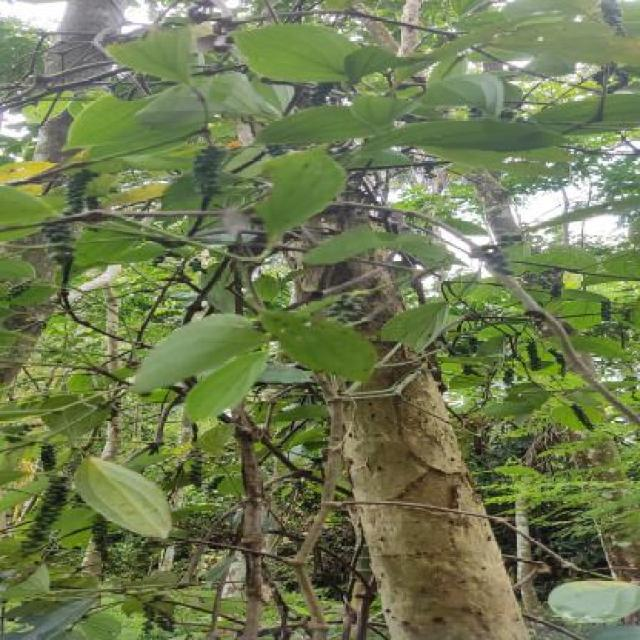UNRIPE: (39, 169, 103, 262), (20, 477, 66, 557), (479, 228, 519, 274), (189, 145, 226, 194), (86, 514, 111, 561), (594, 1, 626, 34), (562, 405, 605, 429), (182, 449, 209, 486), (329, 294, 360, 323), (543, 348, 571, 379), (305, 85, 336, 105), (523, 342, 543, 371), (36, 446, 56, 469), (6, 282, 28, 300), (543, 281, 566, 297)
